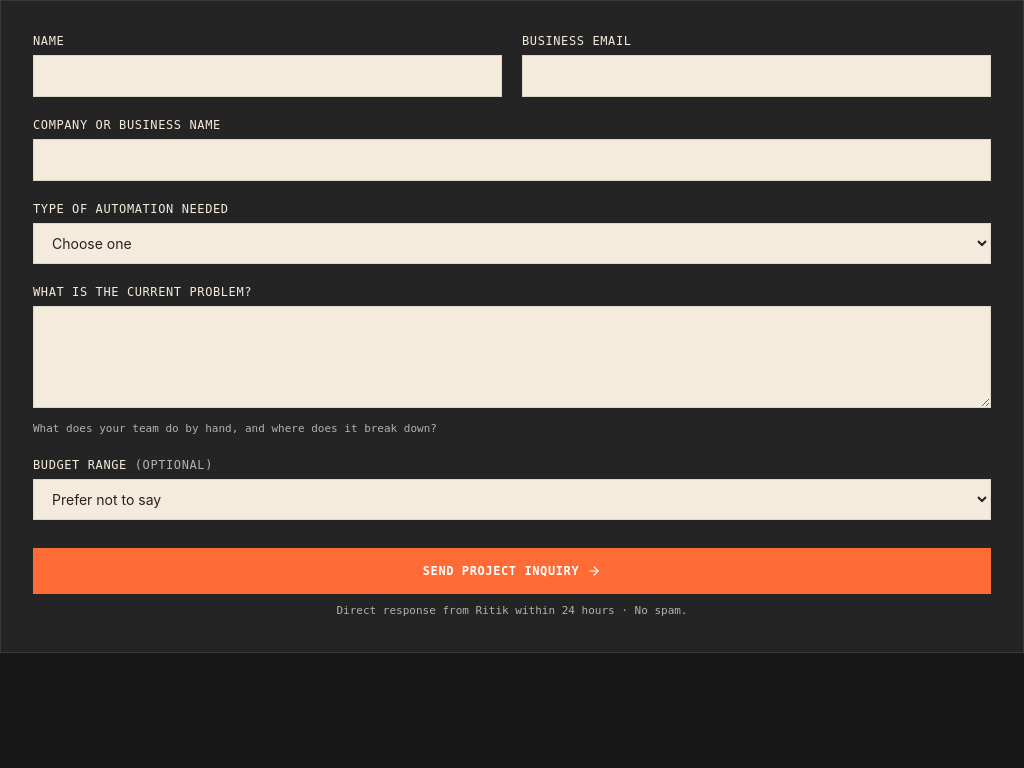
Test: ContactForm › clears an error once the visitor fixes the field
Click the button "Send project inquiry": (512, 571) [33,548,991,594]
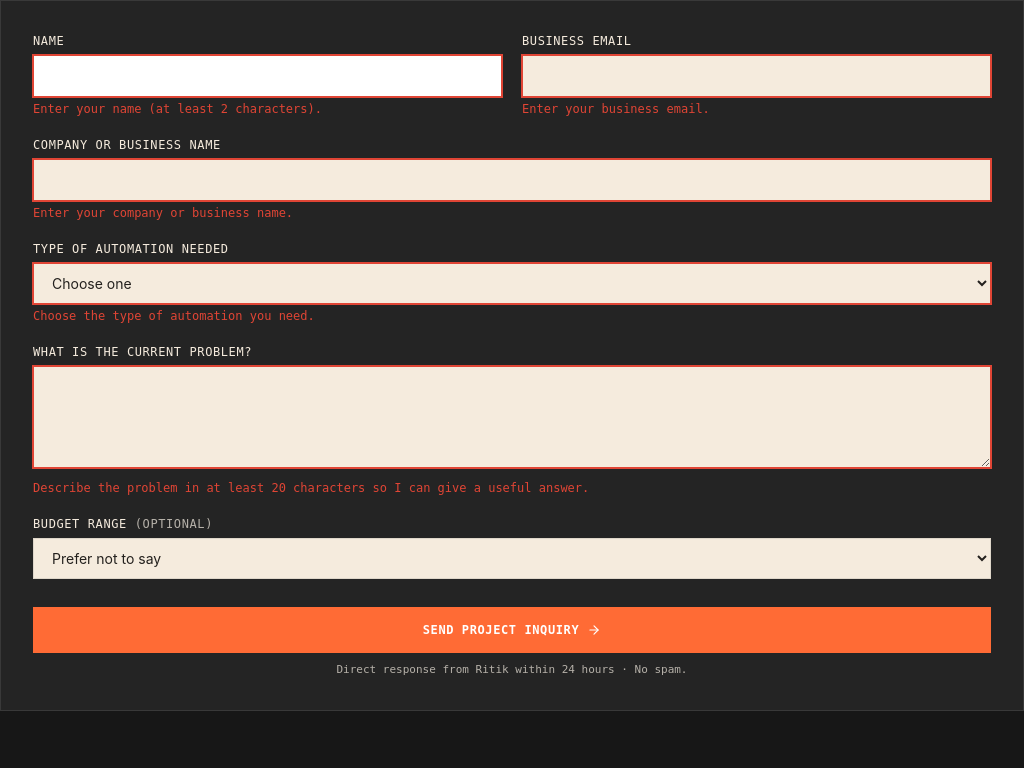
Expected: the text "Enter your business email." is shown, [522,102,710,116]
In the field labelled "Business email": (756, 76) [522,55,991,97], type "a@b.co"
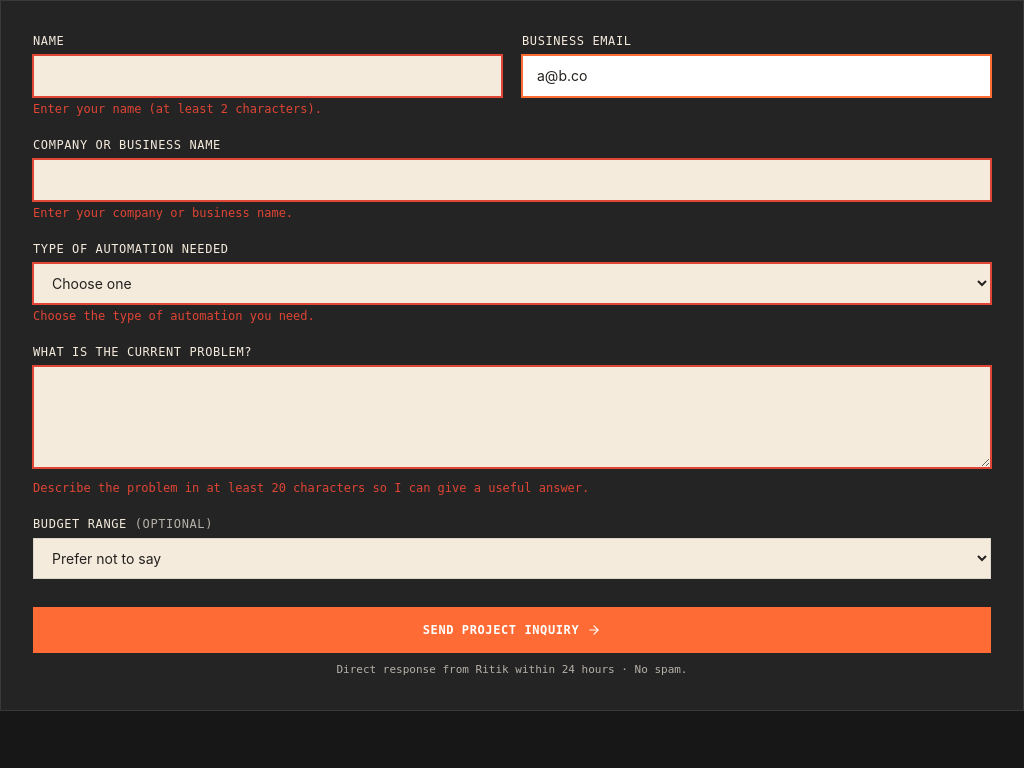
Expected: the text "Enter your business email." is gone
